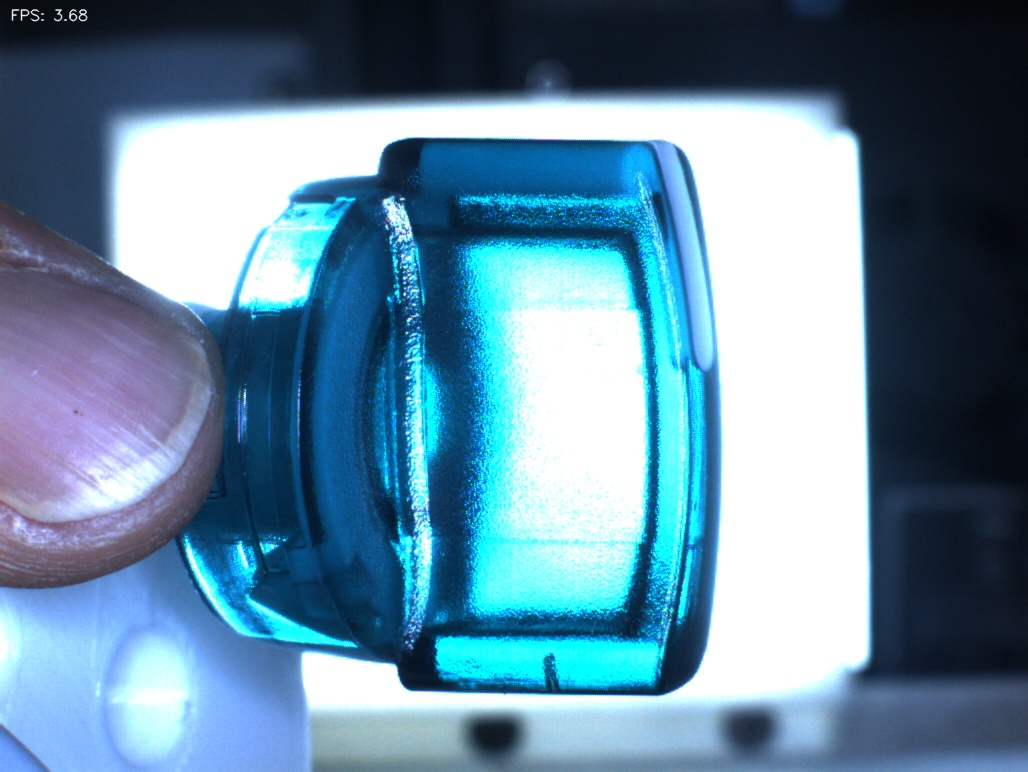Bulle: (511, 633, 593, 724)
